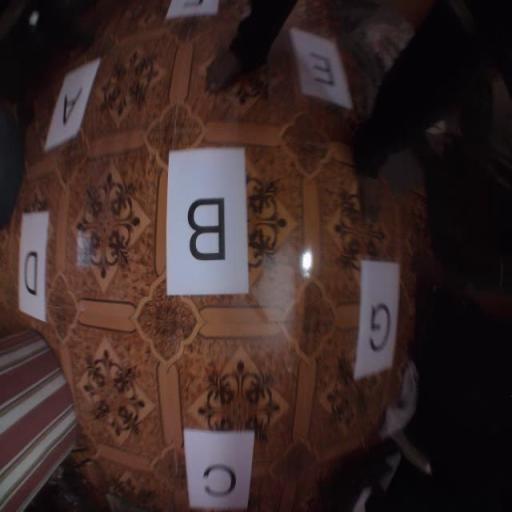A: (43, 58, 100, 152)
B: (166, 147, 250, 296)
C: (182, 428, 256, 511)
D: (18, 210, 48, 322)
E: (288, 25, 354, 110)
F: (165, 0, 219, 20)
G: (354, 260, 400, 380)
